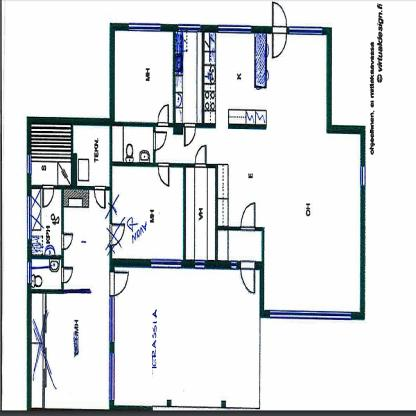door: (269, 0, 289, 58), (240, 260, 258, 297), (107, 270, 130, 296), (240, 197, 257, 230), (108, 221, 123, 245), (160, 161, 171, 192), (42, 184, 54, 212), (94, 184, 106, 212), (183, 125, 196, 150), (194, 140, 206, 167), (157, 105, 169, 127), (152, 133, 166, 151), (61, 231, 73, 251), (60, 266, 72, 283)
window: (268, 308, 353, 320), (107, 295, 116, 398), (151, 257, 181, 270), (129, 21, 161, 33), (176, 22, 200, 35), (217, 26, 250, 35), (288, 25, 321, 34), (26, 194, 32, 240), (358, 164, 366, 191), (26, 261, 34, 283), (25, 154, 31, 173), (194, 258, 204, 268), (229, 262, 238, 268)
zone: (154, 31, 361, 315), (113, 266, 261, 409), (30, 292, 109, 408), (110, 162, 185, 260), (112, 27, 176, 122), (114, 30, 173, 120), (64, 188, 109, 290), (185, 166, 217, 260), (30, 118, 72, 184), (175, 30, 203, 121), (72, 124, 110, 184), (32, 187, 62, 256), (111, 125, 155, 161), (32, 254, 61, 292)
